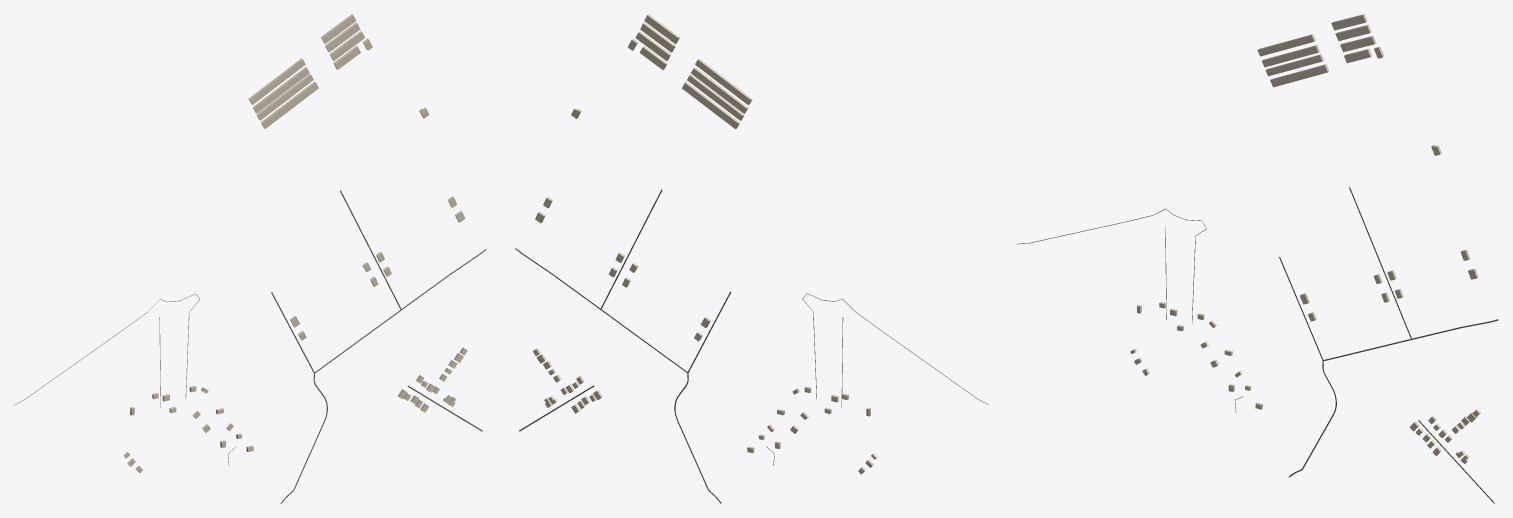
Rendered from historic-palestine-05_22_3472_3162.glb.
3 views of the same model, side by side, from view 1: azimuth 30°, elevation 25°; view 2: azimuth 150°, elevation 25°; view 3: azimuth 330°, elevation 25° (orthographic).
Visible parts, largest first — view 1: Building_.033, Building_.031, Building_.030, Building_.032; view 2: Building_.033, Building_.031, Building_.030, Building_.032; view 3: Building_.033.
Boxes of the visible parts, x1,y1,x2,y2 form: Building_.033: (261,81,318,128); Building_.031: (252,67,309,113); Building_.030: (248,58,305,104); Building_.032: (256,74,313,120); Building_.033: (682,81,739,129); Building_.031: (691,67,748,113); Building_.030: (695,58,752,104); Building_.032: (687,74,744,120); Building_.033: (1270,64,1329,87).
Bounding box in the file's own units: 1319 × 1257 × 8.7.
